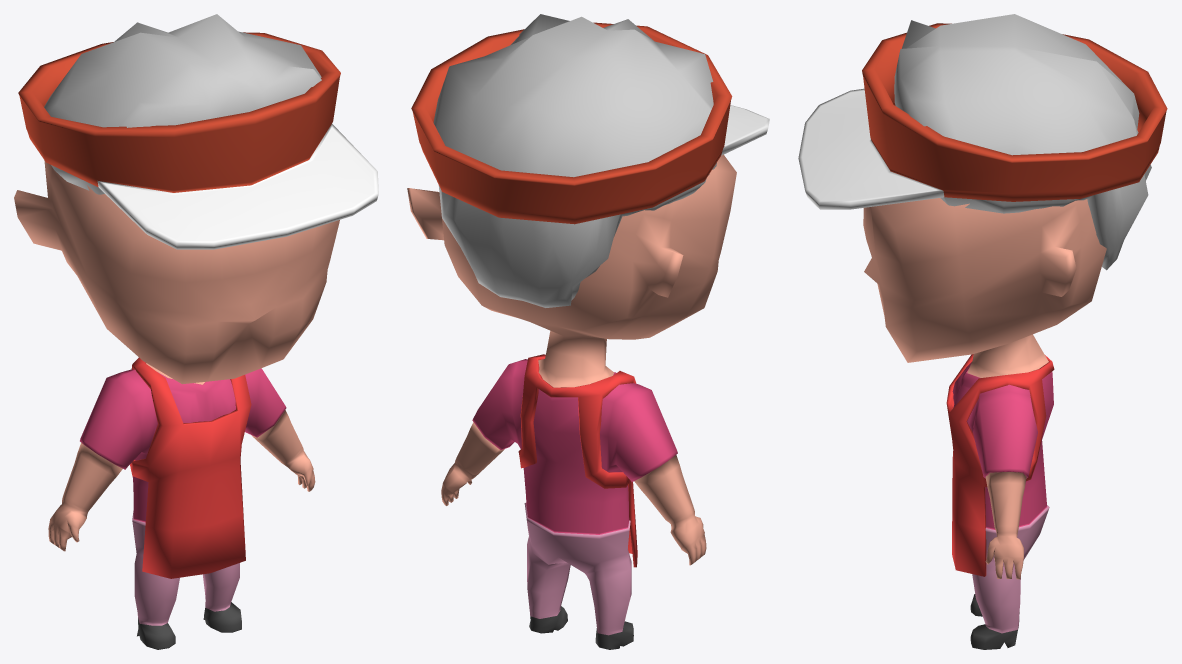
Rendered from Aunt Ji-ho_rough_blockout.fbx.
3 renders of one model, left to right at view 1: azimuth 30°, elevation 25°; view 2: azimuth 150°, elevation 25°; view 3: azimuth 270°, elevation 25°, orthographic.
Visible parts, largest first — view 1: Aunt Ji-ho, accessories; view 2: Aunt Ji-ho, accessories; view 3: Aunt Ji-ho, accessories.
Boxes of the visible parts, x1,y1,x2,y2 form: Aunt Ji-ho: (14,14,339,649); accessories: (18,32,378,578); Aunt Ji-ho: (407,14,736,649); accessories: (411,22,769,567); Aunt Ji-ho: (863,14,1151,649); accessories: (798,23,1167,576).
Bounding box in the file's own units: 327 × 660 × 371.
